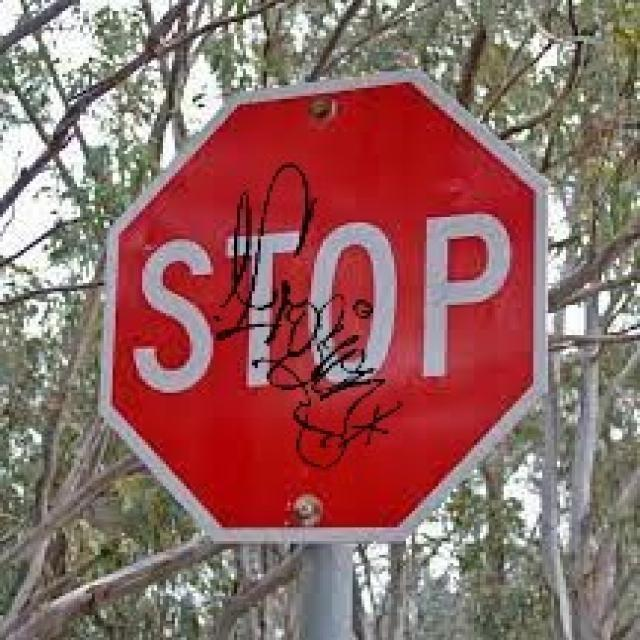Stop-Sign: (117, 84, 538, 516)
